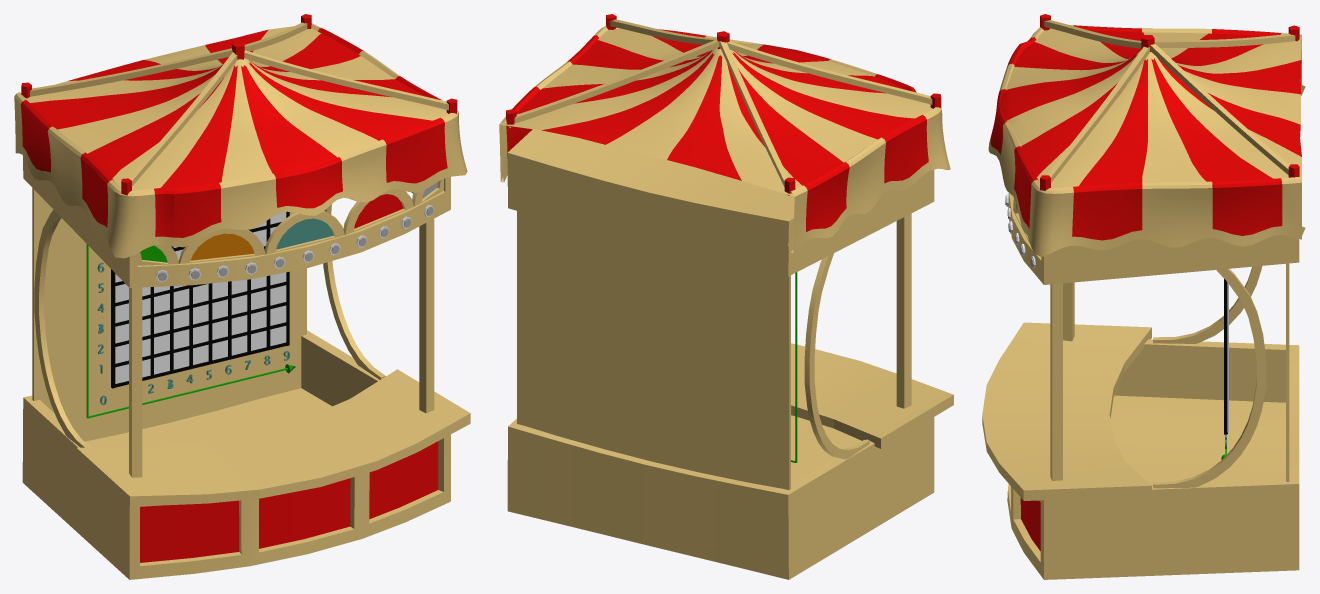
The model's file is Booth.fbx.
3 views of the same model, side by side, from view 1: azimuth 30°, elevation 25°; view 2: azimuth 150°, elevation 25°; view 3: azimuth 270°, elevation 25° (orthographic).
Visible parts, largest first — view 1: tent, polySurface45, polySurface34, polySurface5, polySurface28, polySurface2, polySurface44, polySurface47, curves, polySurface46, polySurface73, polySurface48 (+16 smaller); view 2: polySurface5, tent, polySurface45, polySurface2, polySurface34, polySurface48, polySurface43, pCube3, pCube1, pCube4, pCube2, bolts; view 3: tent, polySurface45, polySurface34, polySurface2, polySurface42, polySurface73, pCube3, pCube2, polySurface43, pCube4, polySurface5, pCube1 (+4 smaller).
Part boxes in pixels (<box>): tent: <box>14,23,467,258</box>; polySurface45: <box>22,330,450,579</box>; polySurface34: <box>76,369,470,506</box>; polySurface5: <box>32,188,306,441</box>; polySurface28: <box>115,212,286,383</box>; polySurface2: <box>23,156,450,287</box>; polySurface44: <box>140,500,239,562</box>; polySurface47: <box>259,478,350,548</box>; curves: <box>137,179,443,265</box>; polySurface46: <box>369,441,438,519</box>; polySurface73: <box>419,219,434,413</box>; polySurface48: <box>129,287,142,477</box>; polySurface5: <box>517,211,790,489</box>; tent: <box>499,26,950,253</box>; polySurface45: <box>507,415,934,579</box>; polySurface2: <box>507,129,934,276</box>; polySurface34: <box>791,343,953,448</box>; polySurface48: <box>896,213,911,408</box>; polySurface43: <box>804,253,869,459</box>; pCube3: <box>514,39,719,123</box>; pCube1: <box>727,41,932,104</box>; pCube4: <box>720,41,788,186</box>; pCube2: <box>610,19,716,44</box>; bolts: <box>506,14,941,195</box>; tent: <box>988,25,1305,256</box>; polySurface45: <box>1007,339,1299,579</box>; polySurface34: <box>982,322,1151,500</box>; polySurface2: <box>1008,192,1299,284</box>; polySurface42: <box>1153,268,1266,488</box>; polySurface73: <box>1050,283,1062,480</box>; pCube3: <box>1150,43,1289,174</box>; pCube2: <box>1047,46,1149,182</box>; polySurface43: <box>1152,266,1262,343</box>; pCube4: <box>1154,33,1295,47</box>; polySurface5: <box>1286,263,1289,481</box>; pCube1: <box>1044,20,1141,48</box>.
Size of the model in its own units: 2.02 by 2.51 by 1.59.
